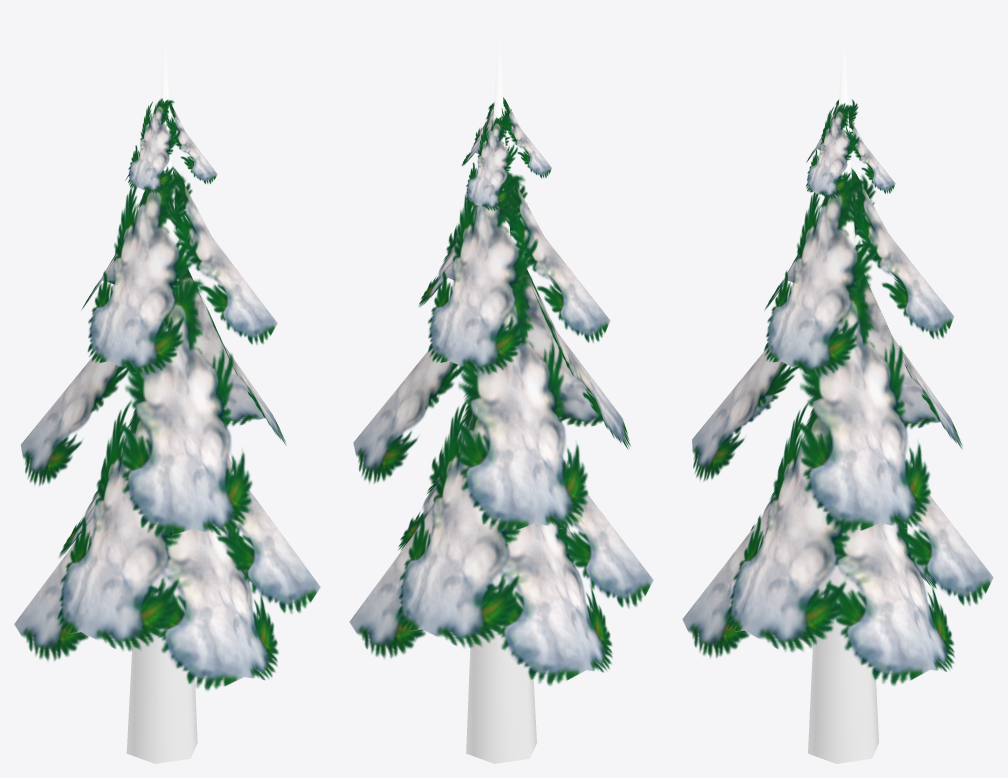
The picture shows the model from 3 angles, left to right: view 1: azimuth 30°, elevation 25°; view 2: azimuth 150°, elevation 25°; view 3: azimuth 270°, elevation 25°; orthographic projection.
Parts seen in each view (by area): view 1: branches, trunk; view 2: branches, trunk; view 3: branches, trunk.
Part boxes in pixels (box(x1,y1,x2,y2)): branches: box(14, 98, 320, 690); trunk: box(126, 15, 197, 763); branches: box(349, 97, 653, 685); trunk: box(466, 14, 536, 763); branches: box(682, 99, 993, 685); trunk: box(808, 14, 878, 763).
Size of the model in its own units: 287 by 794 by 305.
Materials: 2 (1 with a texture image).
